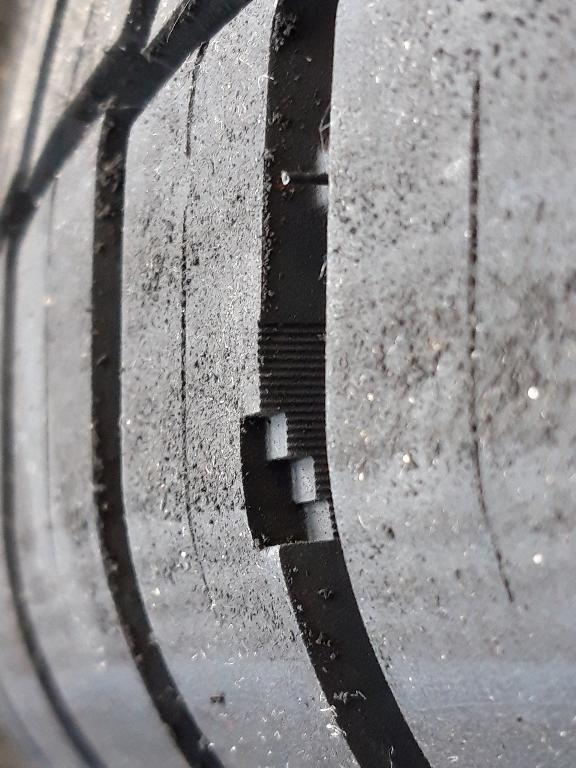temoin:75: (232, 365, 345, 559)
